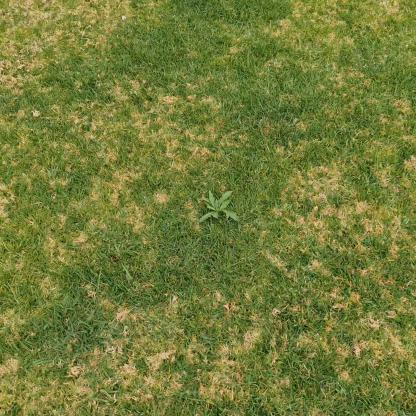Weeds: (199, 190, 241, 223)
